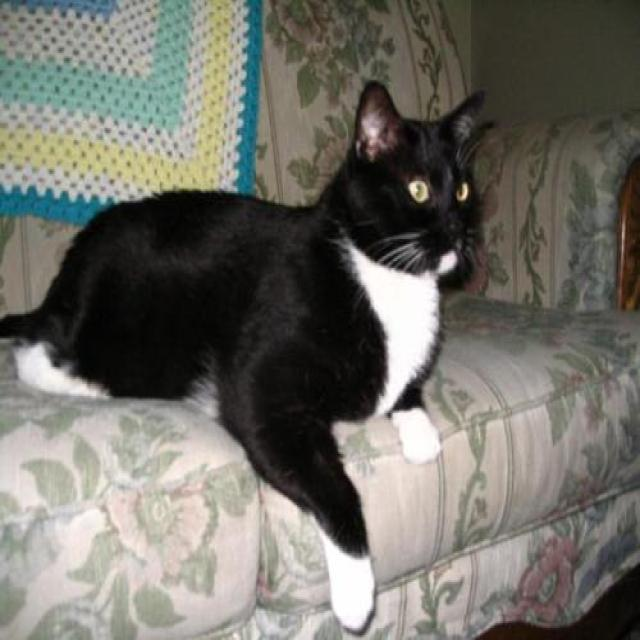cats: (1, 80, 486, 632)
